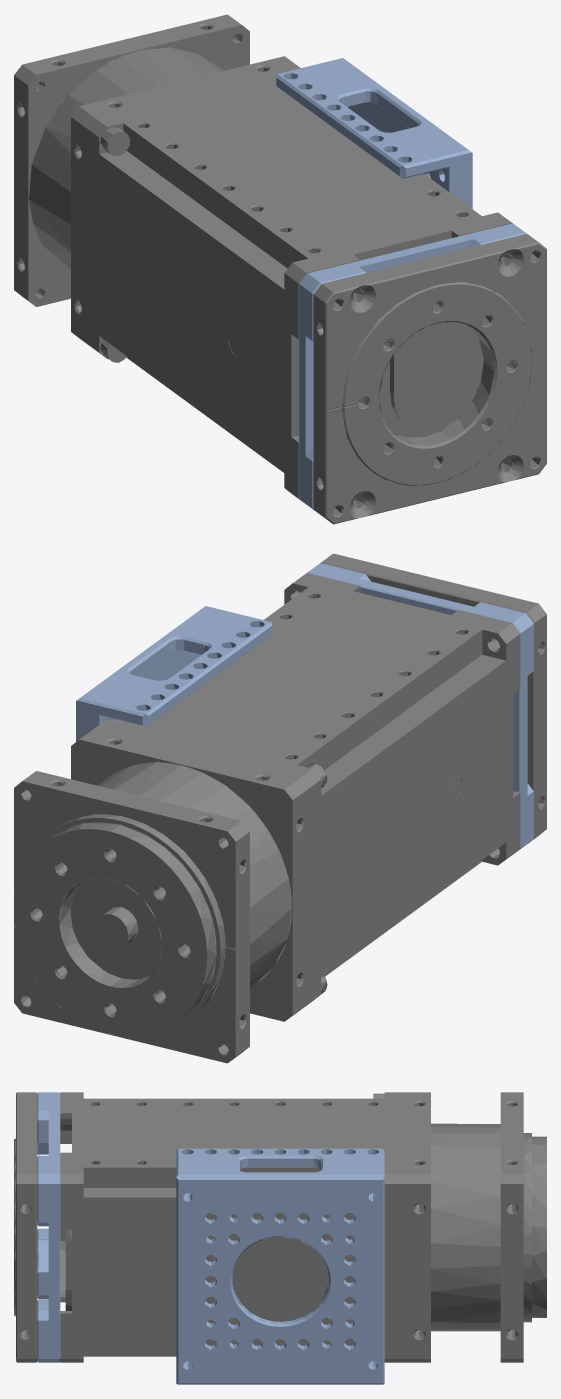
Rendered from robotis_arm_link1.dae.
3 views of the same model, one above another, from view 1: azimuth 30°, elevation 25°; view 2: azimuth 150°, elevation 25°; view 3: azimuth 270°, elevation 25° (orthographic). The views are drawn at different scales.
Visible parts, largest first — view 1: Untitled_003, Untitled, Untitled_002, Untitled_001; view 2: Untitled_003, Untitled_002, Untitled, Untitled_001; view 3: Untitled_003, Untitled_002, Untitled_001, Untitled.
Part boxes in pixels (x1,y1,x2,y2): Untitled_003: (14,14,512,504); Untitled: (313,234,546,524); Untitled_002: (276,58,472,208); Untitled_001: (299,223,526,513); Untitled_003: (14,573,520,1063); Untitled_002: (76,606,272,911); Untitled: (321,553,546,843); Untitled_001: (307,563,533,853); Untitled_003: (60,1092,546,1362); Untitled_002: (176,1148,384,1384); Untitled_001: (37,1092,60,1362); Untitled: (14,1092,37,1362).
Size of the model in its own units: 0.06 by 0.138 by 0.06.
